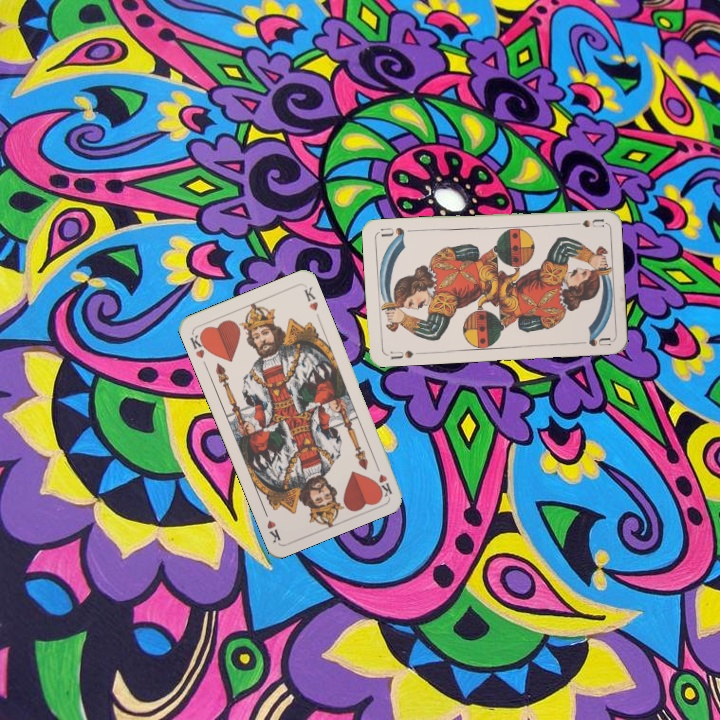HK: (371, 458, 395, 499), (186, 329, 211, 361)
SU: (565, 215, 605, 230), (383, 346, 416, 362)
